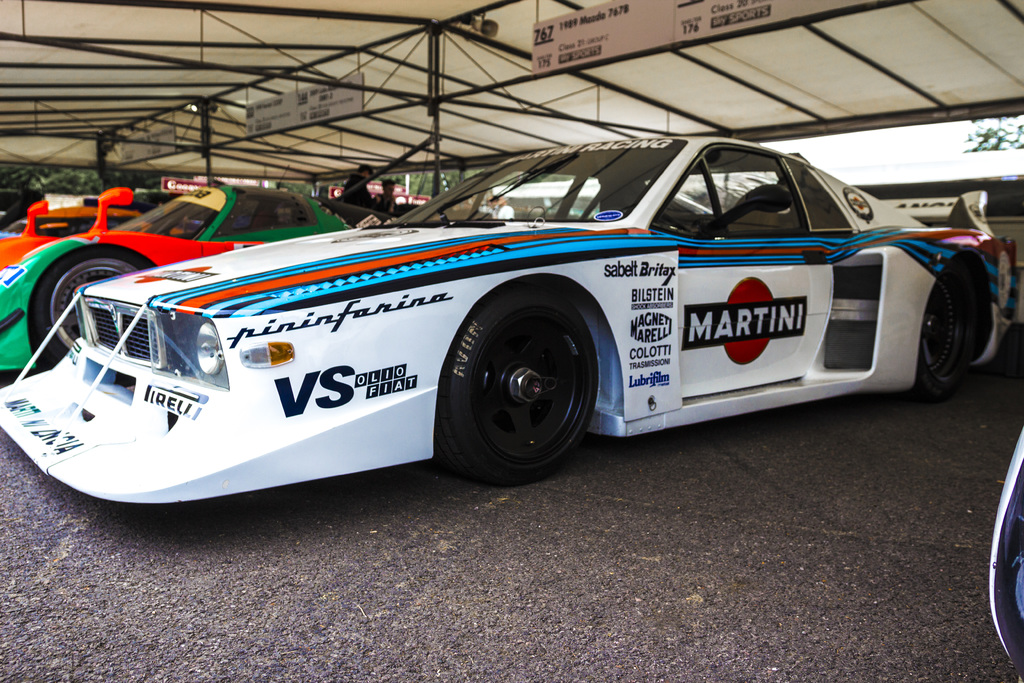Car: (0, 136, 1023, 682)
